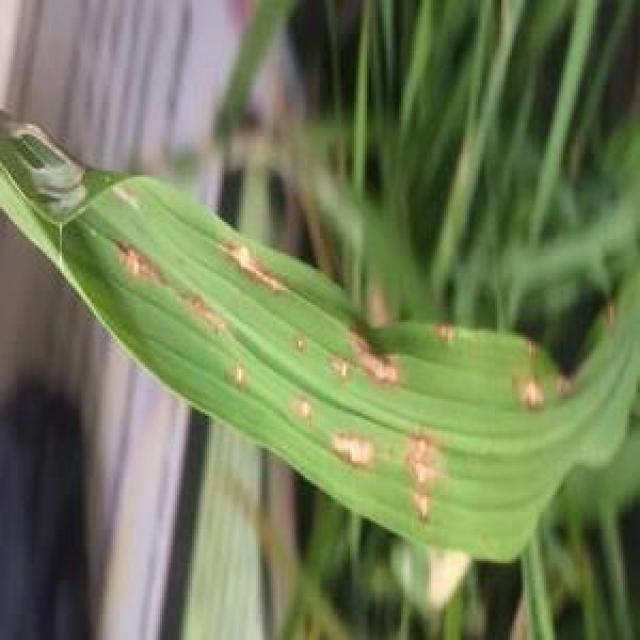Brown_Spot: (213, 239, 291, 297), (343, 326, 402, 386), (115, 239, 166, 291), (328, 430, 386, 471), (175, 290, 228, 332), (396, 431, 436, 481), (505, 371, 550, 414), (408, 486, 440, 523), (431, 320, 463, 350), (326, 356, 352, 381), (296, 404, 321, 428), (232, 362, 248, 386), (520, 340, 538, 358)
